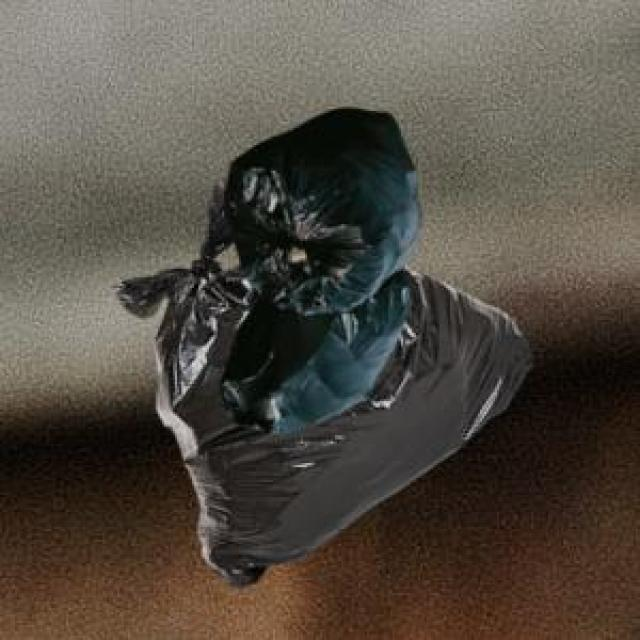waste: (118, 110, 529, 584)
